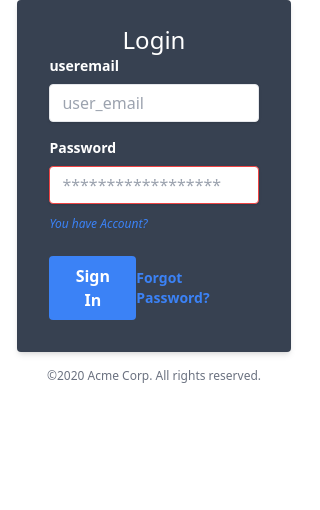
Scenario: Test RegisterForm › Register Page Tests › test Register page When form submitted rejected and error show on document
Click the text named "changePage".
click(98, 224)  # box [49,215,148,232]
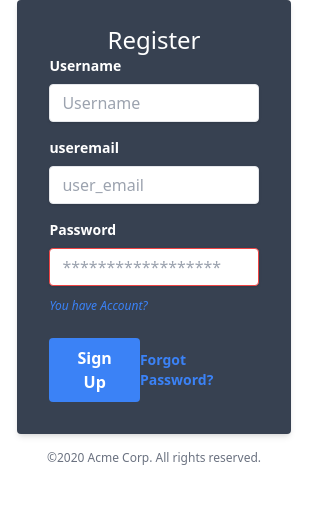
Type "JohnDoe" into the field with test id "inputAuth" showing "Username".
click(154, 103); type("JohnDoe")  # box [49,84,259,122]
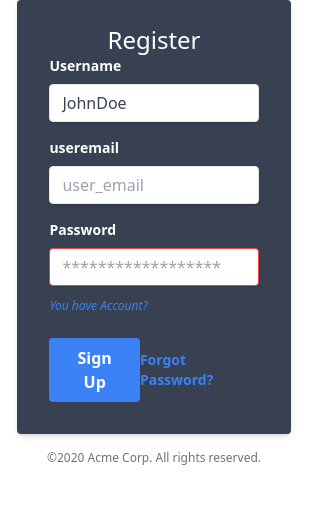
Type "JohnDoe@gmail.com" into the field with test id "inputAuth" showing "user_email".
click(154, 185); type("JohnDoe@gmail.com")  # box [49,166,259,204]
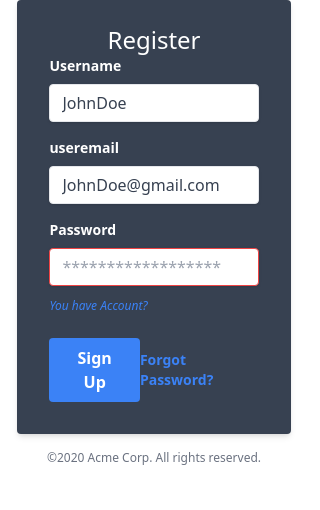
Type "John123456" into the password field with test id "inputAuth".
click(154, 267); type("John123456")  # box [49,248,259,286]
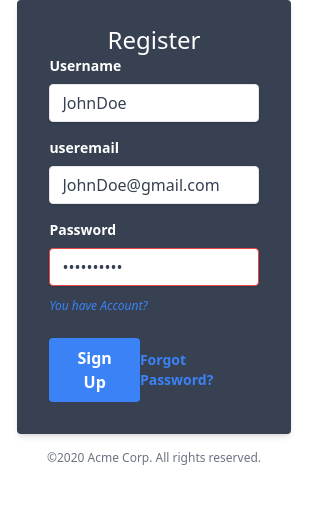
Click the button with aria-label "submit".
click(95, 370)  # box [49,338,140,402]
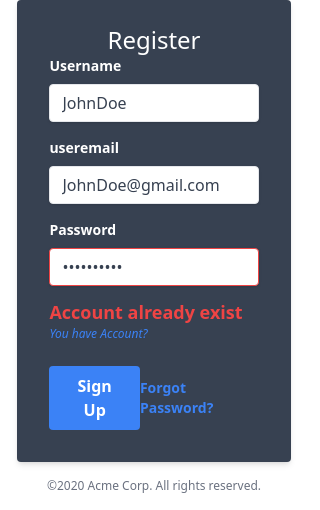
Now the text named "error_result" reads "Account already exist", box [49,300,242,324]
